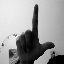l: (14, 3, 56, 60)
